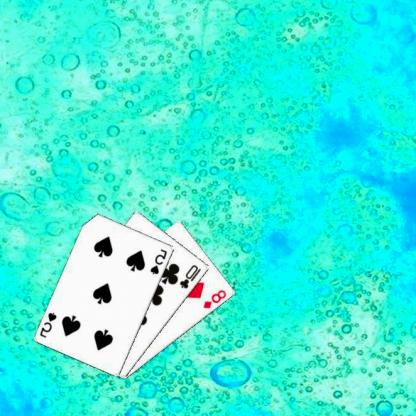10C: (179, 262, 204, 290)
5S: (39, 309, 60, 339), (150, 246, 170, 276)
8D: (202, 287, 230, 310)
